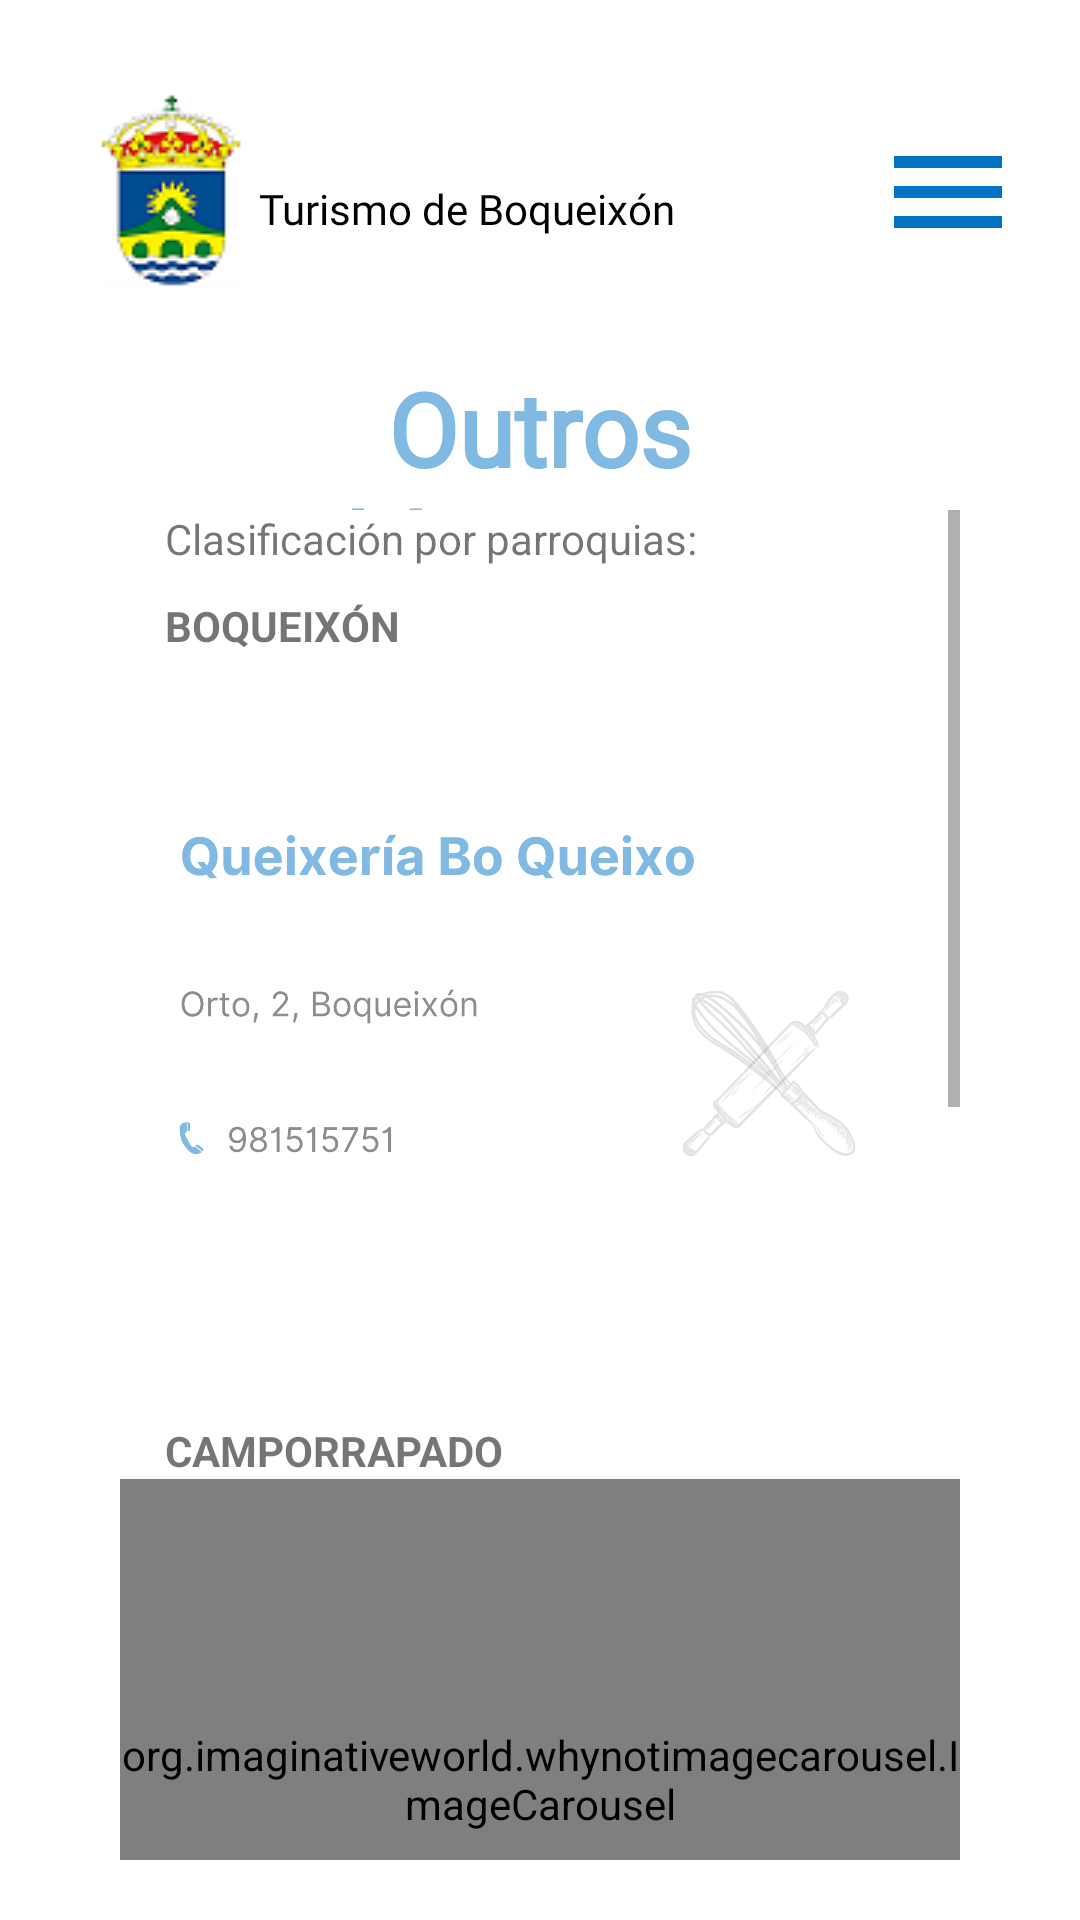

Icon bounding boxes for this 1080 x 1920 phone screenshot, format [x1,y1,x2,y2]:
hamburguesa: [894,156,1002,228]
